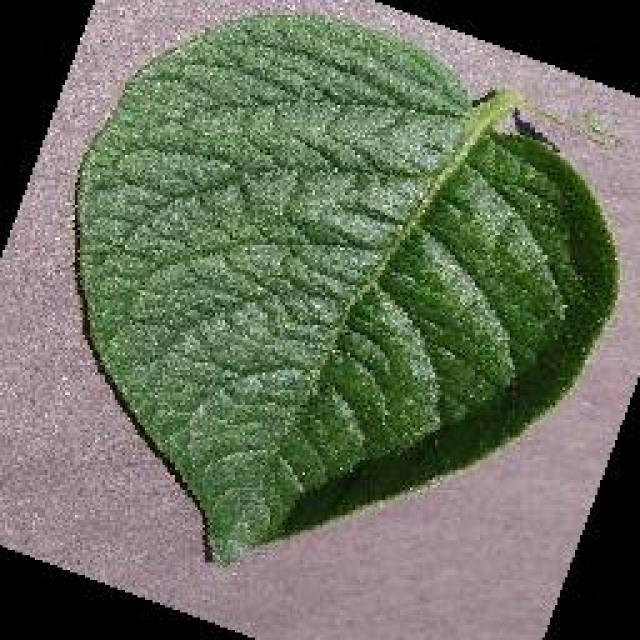Potato___healthy: (77, 10, 625, 567)
